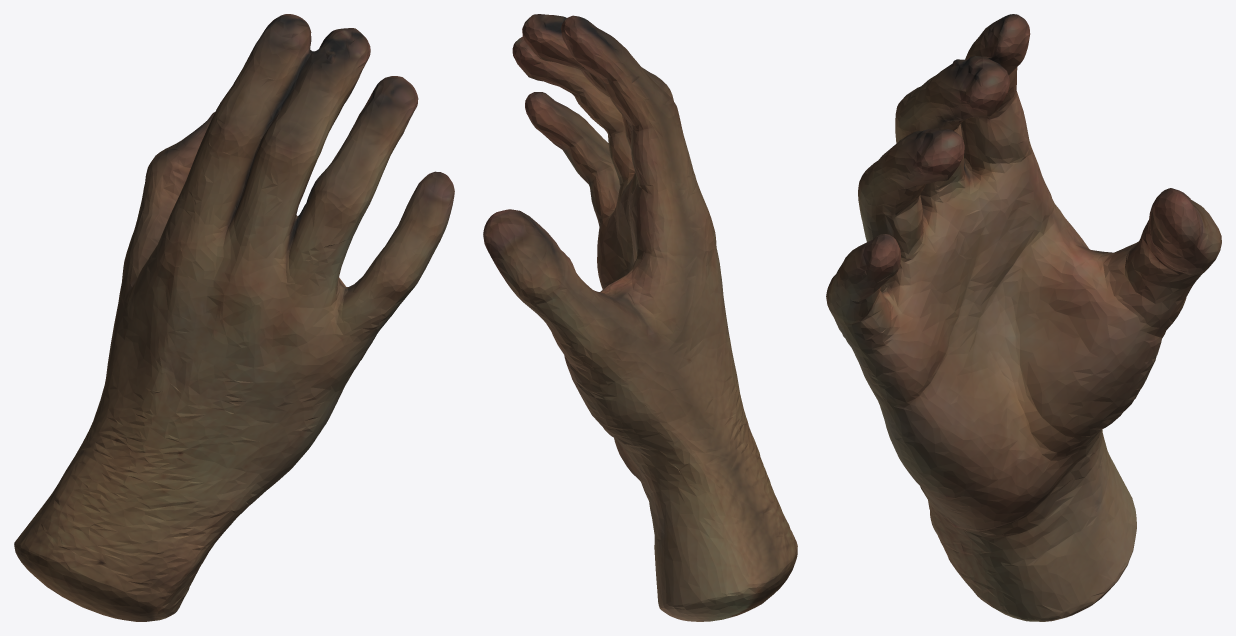
File: BBQHand_low.fbx
3 views of the same model, side by side, from view 1: azimuth 30°, elevation 25°; view 2: azimuth 150°, elevation 25°; view 3: azimuth 270°, elevation 25° (orthographic). The views are drawn at different scales.
Parts seen in each view (by area): view 1: hand:Mesh; view 2: hand:Mesh; view 3: hand:Mesh.
Boxes of the visible parts, bbox=[...] form: hand:Mesh: bbox=[14, 14, 454, 621]; hand:Mesh: bbox=[483, 14, 797, 621]; hand:Mesh: bbox=[826, 14, 1221, 621].
Size of the model in its own units: 1.52 by 2.39 by 1.27.
